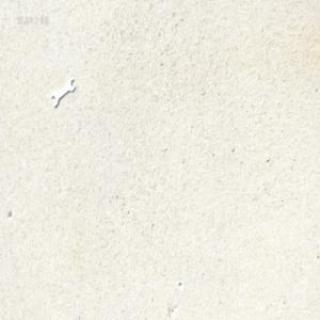Wrenchtrack_idkeyframe: (50, 74, 74, 108)
